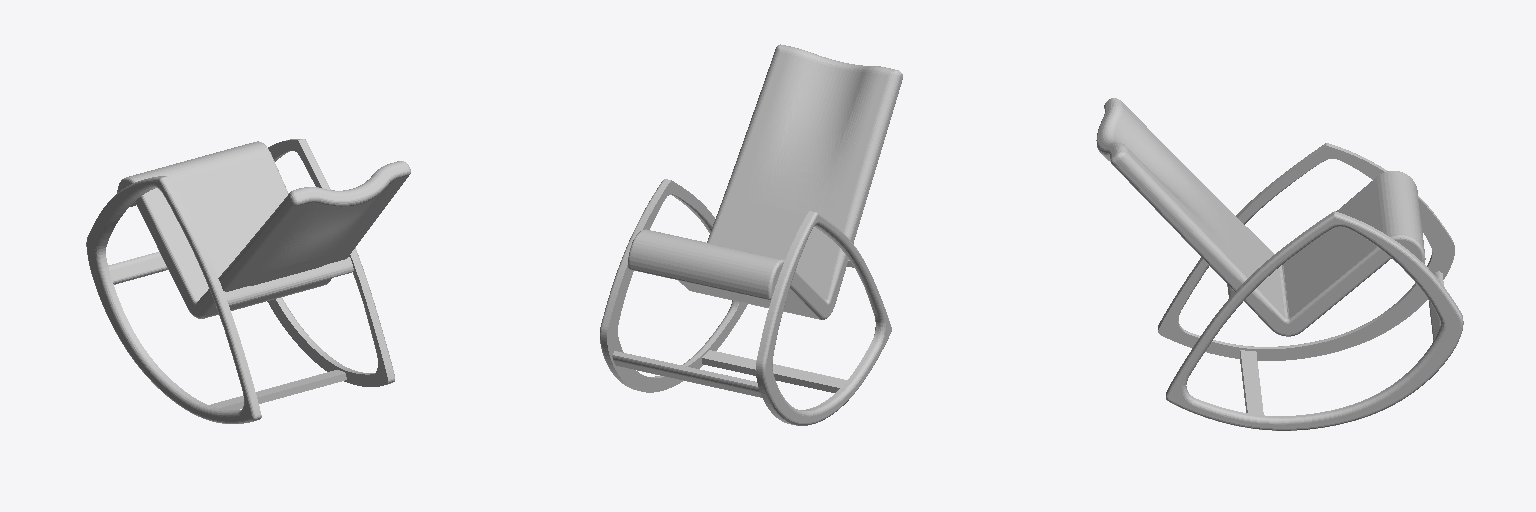
The model's file is fauteuil.obj.
The picture shows the model from 3 angles: view 1: azimuth 30°, elevation 25°; view 2: azimuth 150°, elevation 25°; view 3: azimuth 270°, elevation 25°; orthographic projection.
Visible parts, largest first — view 1: BJ_0321_ta, BJ_0321_ze; view 2: BJ_0321_ta, BJ_0321_ze; view 3: BJ_0321_ta, BJ_0321_ze.
Part boxes in pixels (x1,y1,x2,y2): BJ_0321_ta: (117, 141, 410, 318); BJ_0321_ze: (86, 139, 394, 423); BJ_0321_ta: (628, 44, 902, 319); BJ_0321_ze: (600, 179, 891, 425); BJ_0321_ta: (1096, 98, 1425, 336); BJ_0321_ze: (1158, 143, 1463, 430).
Size of the model in its own units: 1.63 by 2.55 by 3.11.